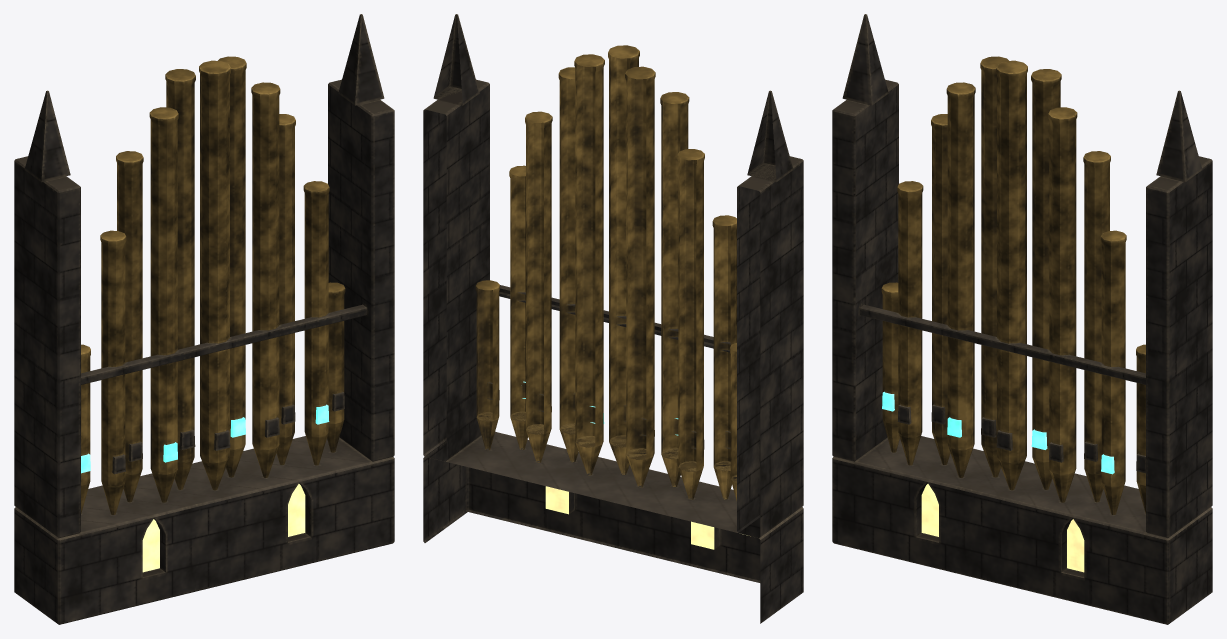
The model's file is ClockLung_OrganPipes.fbx.
The picture shows the model from 3 angles, left to right: view 1: azimuth 30°, elevation 25°; view 2: azimuth 150°, elevation 25°; view 3: azimuth 330°, elevation 25°; orthographic projection.
Visible parts, largest first — view 1: ClockLung_OrganPipes; view 2: ClockLung_OrganPipes; view 3: ClockLung_OrganPipes.
Part boxes in pixels (x1,y1,x2,y2): ClockLung_OrganPipes: (14,14,394,624); ClockLung_OrganPipes: (423,14,803,623); ClockLung_OrganPipes: (832,14,1212,624).
Size of the model in its own units: 13.23 by 19 by 2.95.
